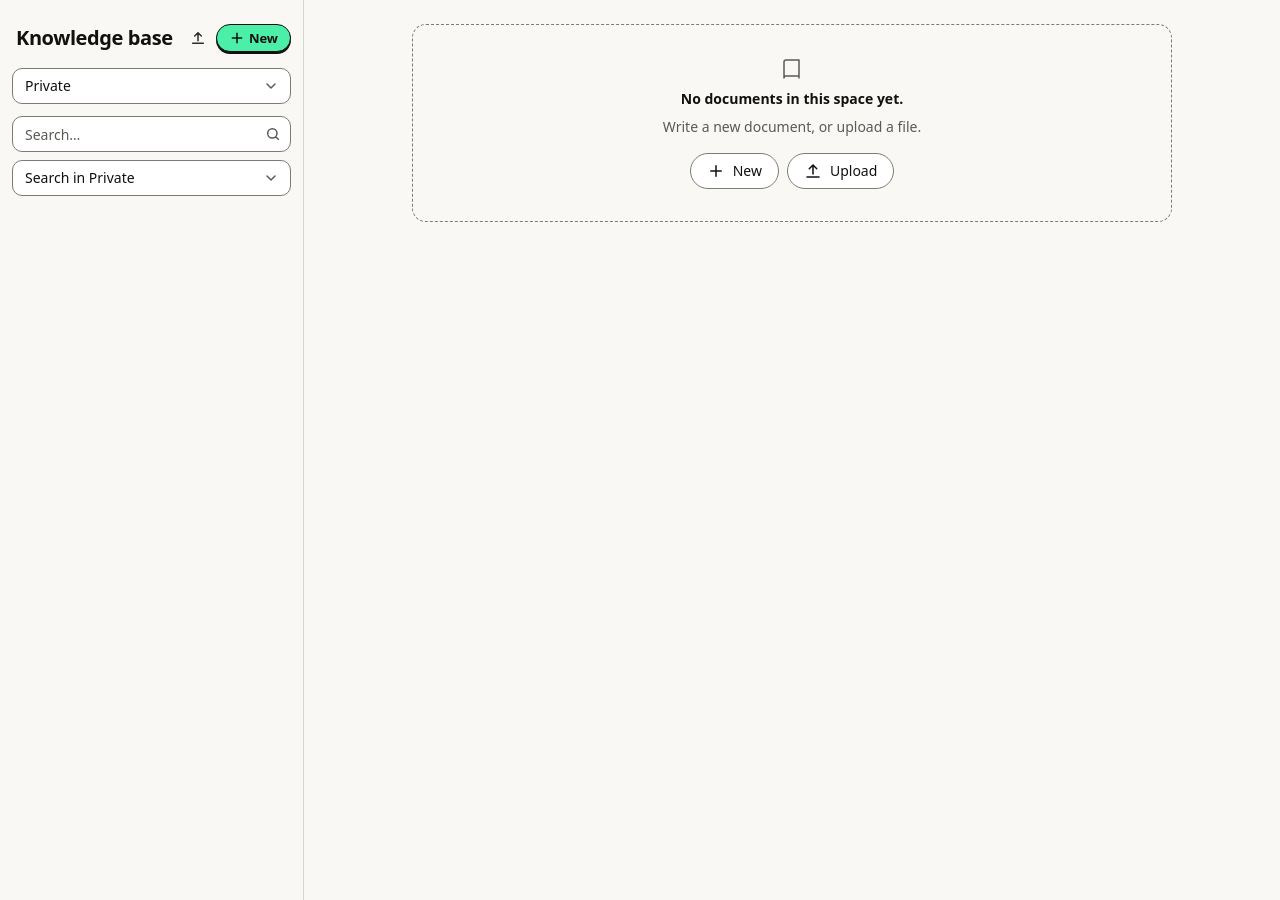
Test: shows the server’s notice: Semantic search is off: no embeddings model is set for this workspace. These are full-text results.
Expected: the text "No documents in this space yet." is shown, 681,89 -> 903,109
Type "orchard" into the search field named "Search the knowledge base" at (152, 134), box 12,116 -> 291,152
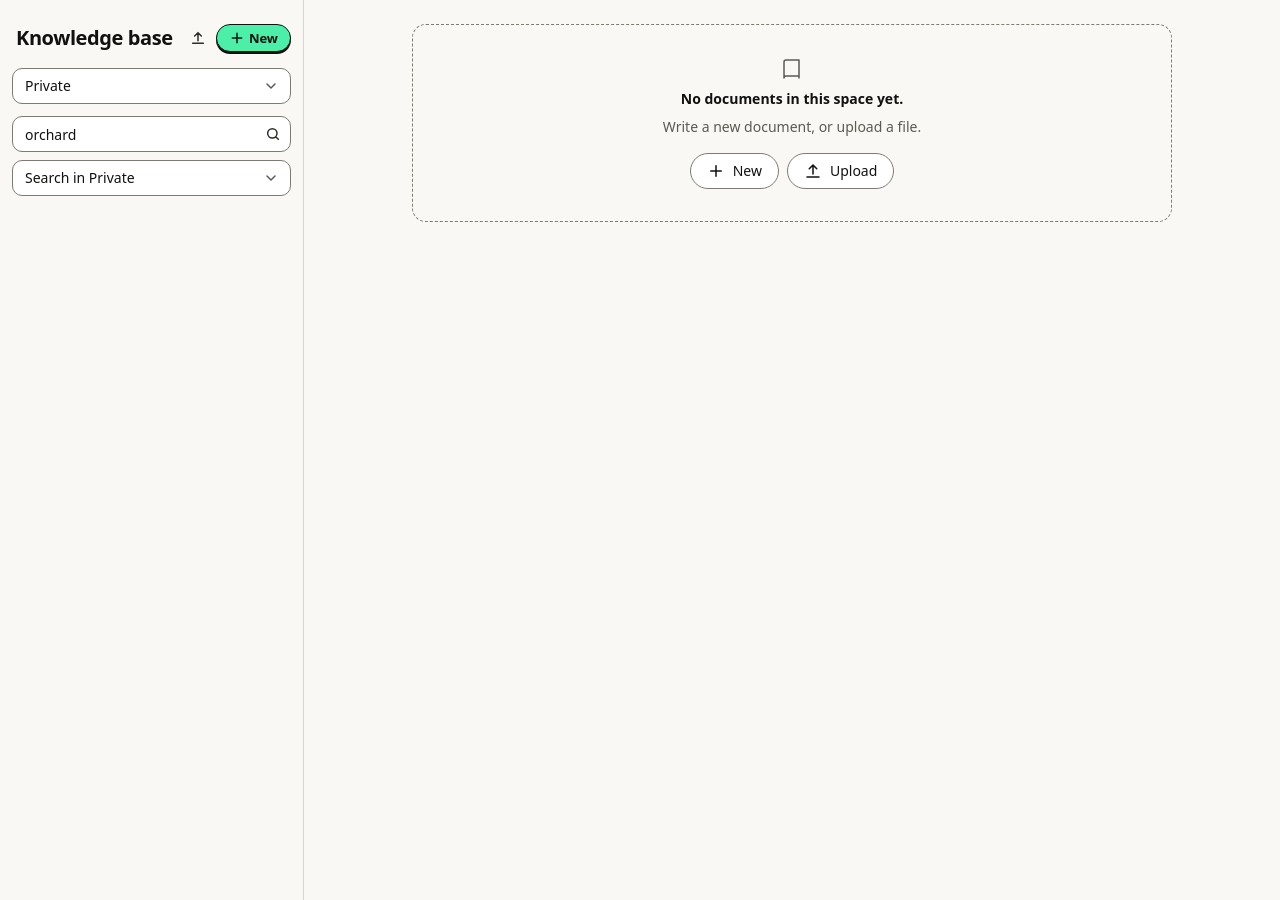
Select "Search in all spaces" in the dropdown named "Where to search" at (152, 178), box 12,160 -> 291,196
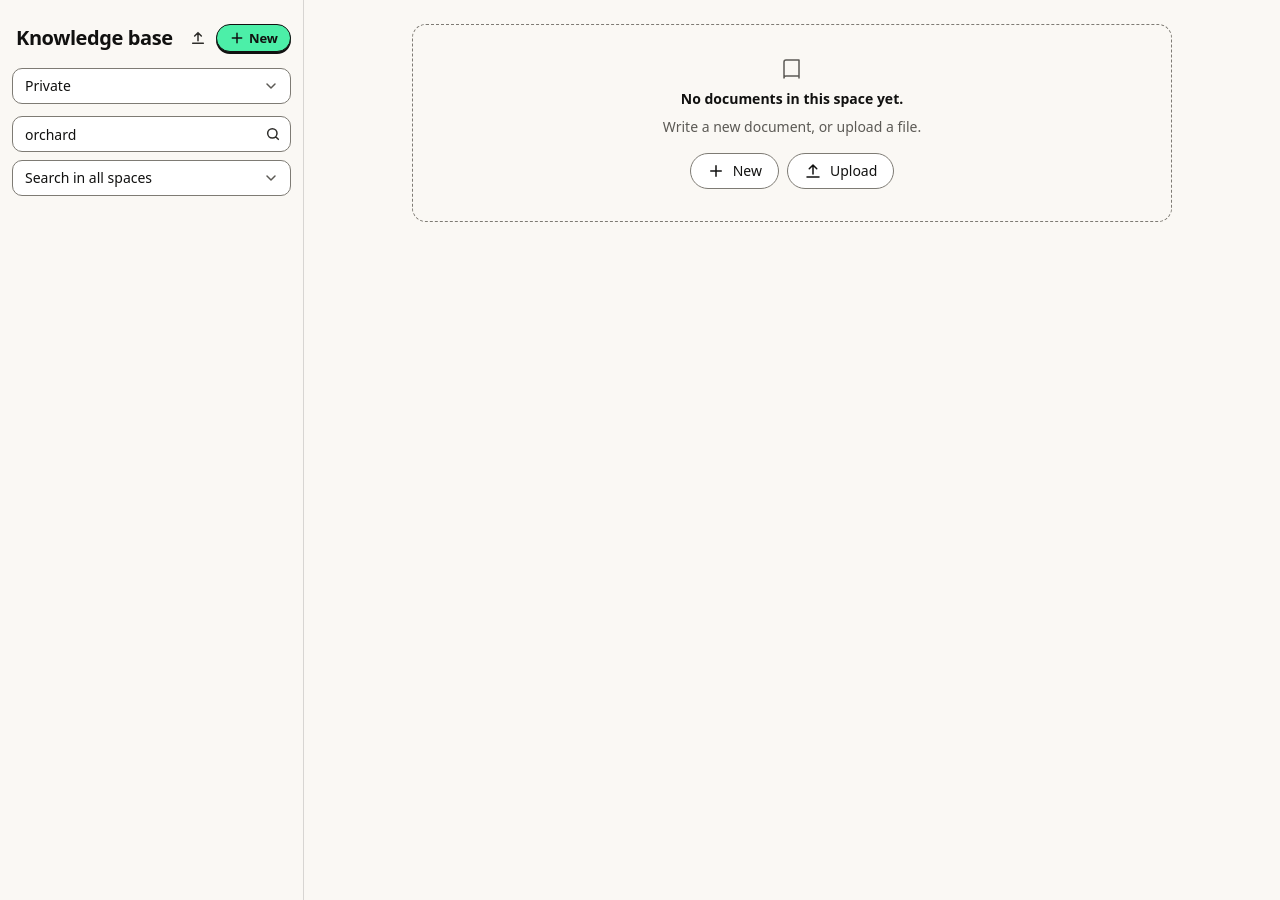
Click the button named "Search" at (273, 134), box 259,120 -> 287,148
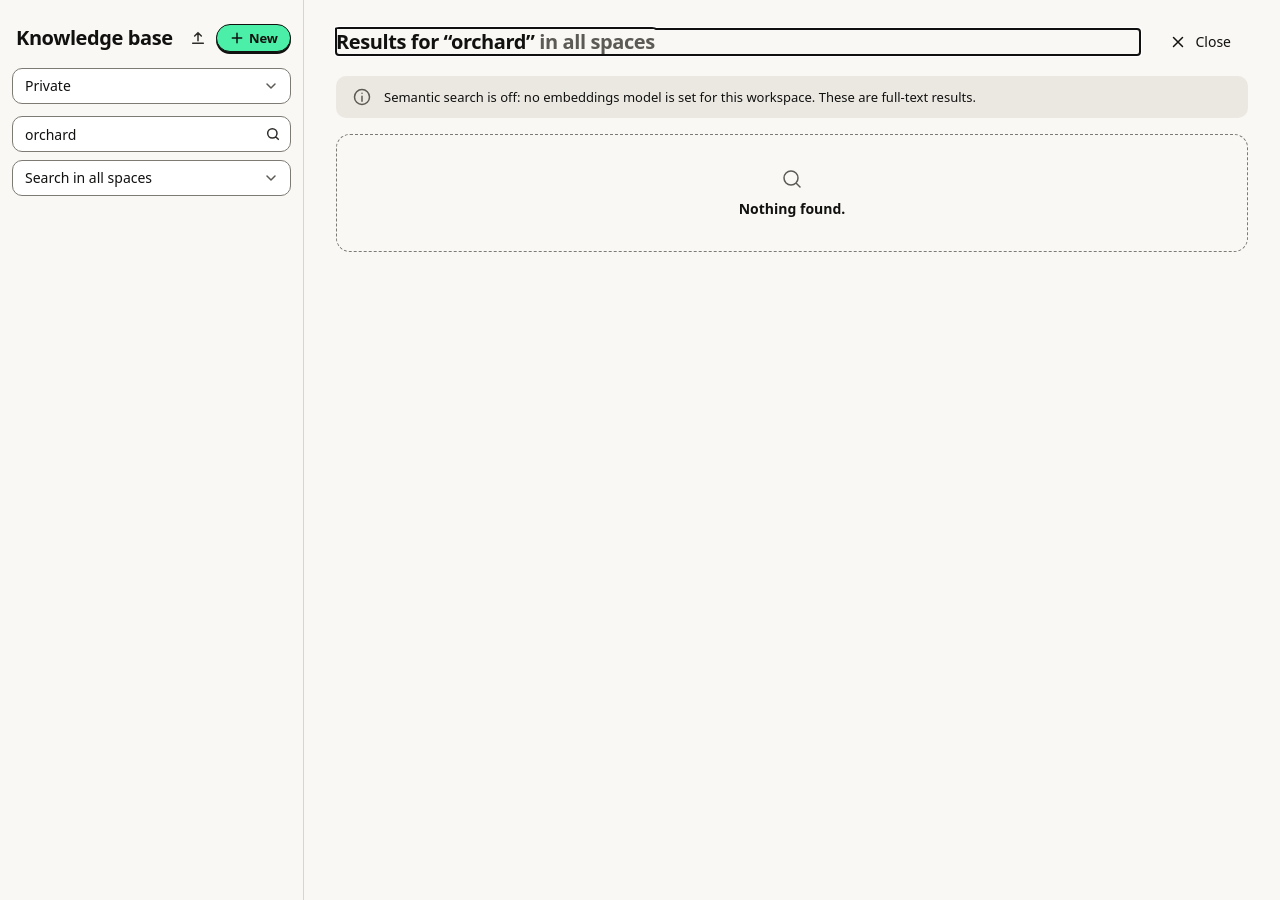
Expected: the text "Semantic search is off: no embeddings model is set for this workspace. These are full-text results." is shown, 384,88 -> 976,106
Expected: the text "Nothing found." is shown, 739,199 -> 845,219
